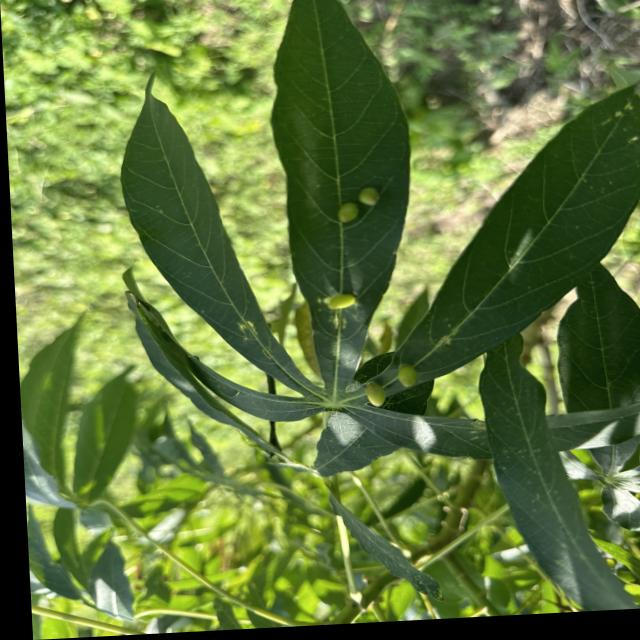Mosca: (359, 363, 436, 419), (294, 274, 364, 324), (329, 179, 396, 218)
